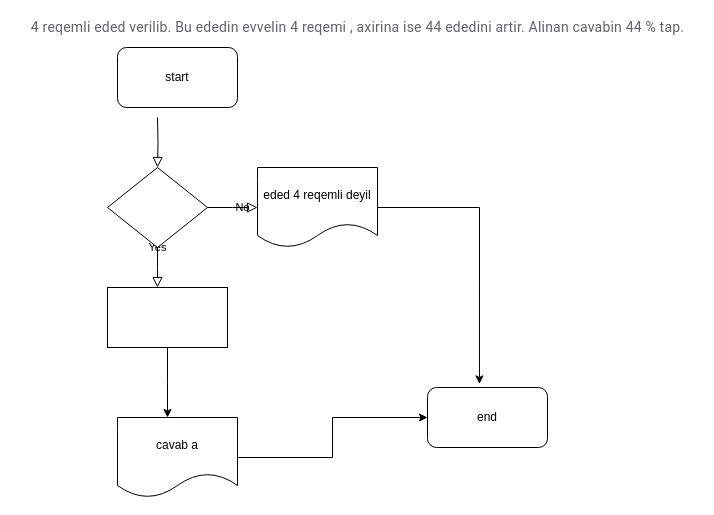
This 714x515 diagram has some shape labels left out. Here are the shapes that lost their labels. From the top down, the box of each, then its label:
(106, 166, 208, 248): a>=1000 a<10000
(106, 286, 228, 348): a=a+40000 a=a*100+44 a=a*44/100
